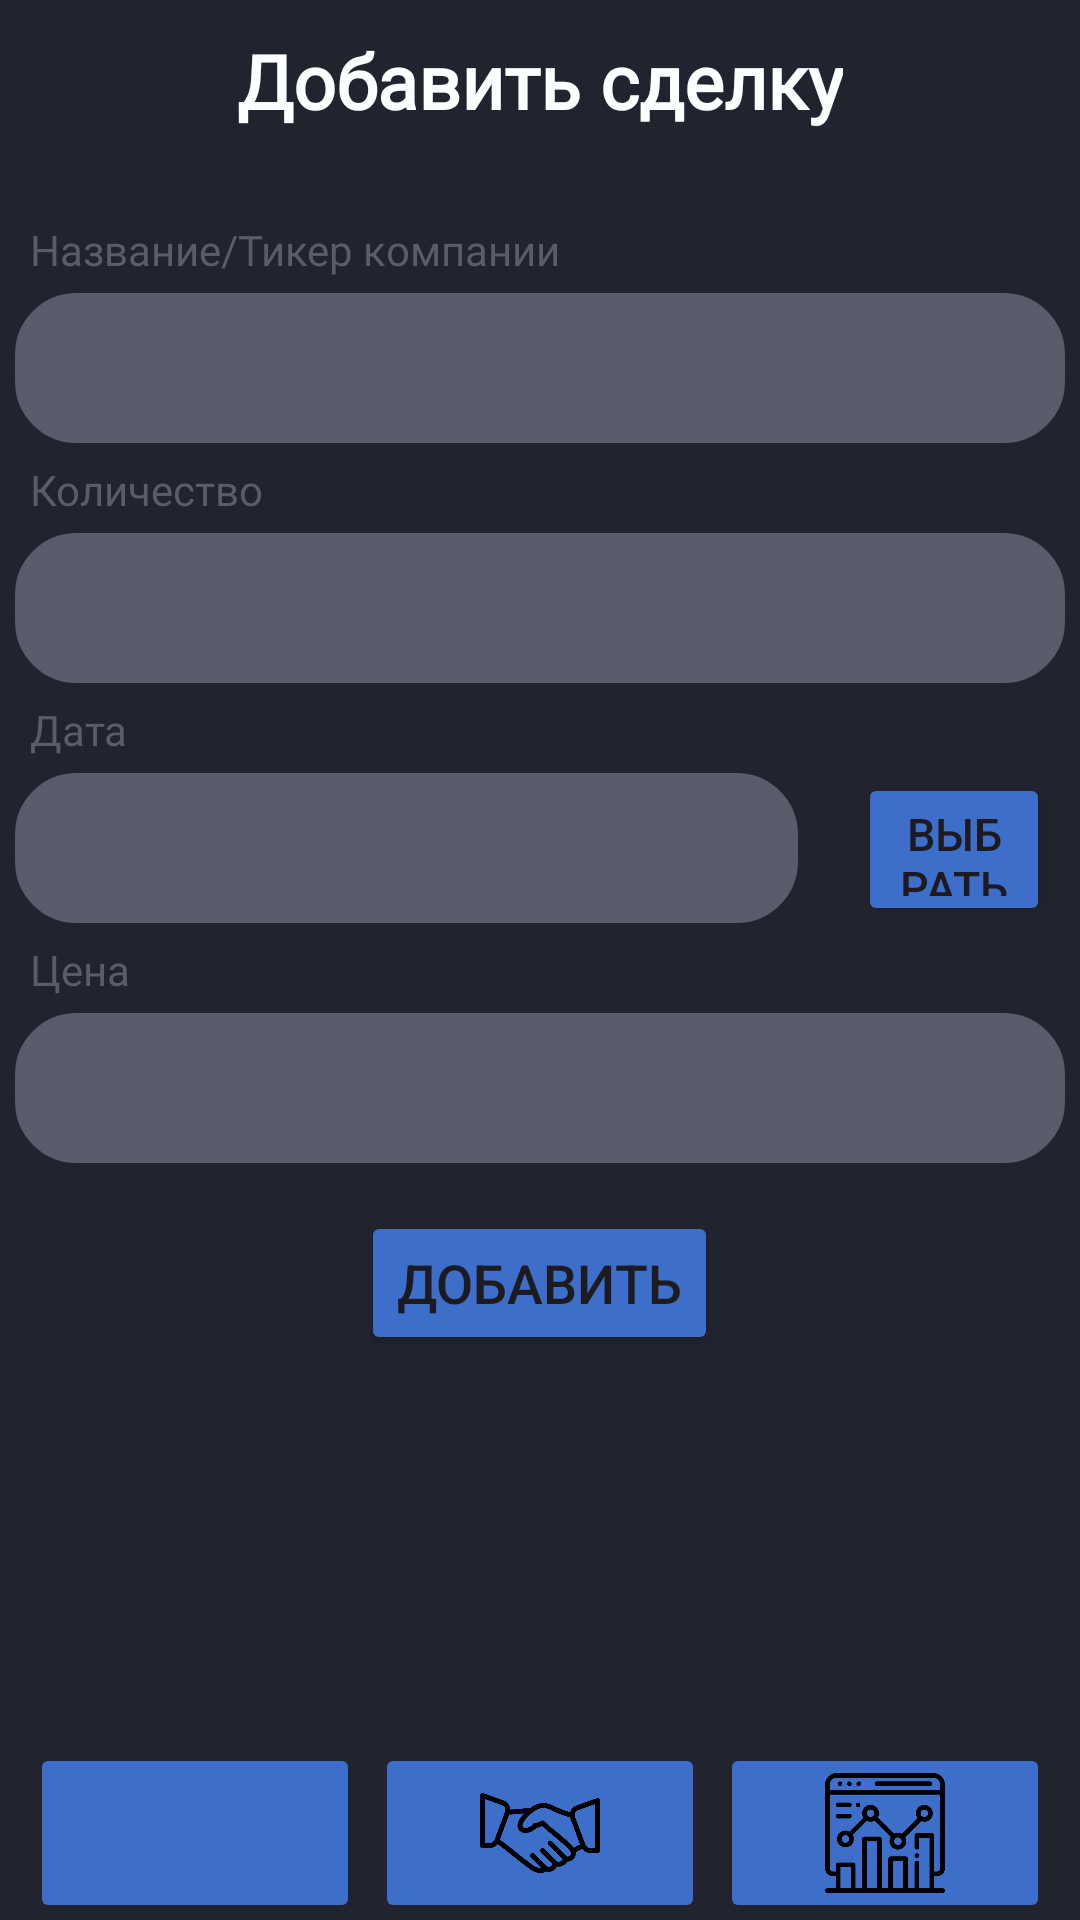

Icon click points for this 1080w x 1920h phone screenshot, format (x,y):
analytics: (885,1833)
deal: (540,1833)
